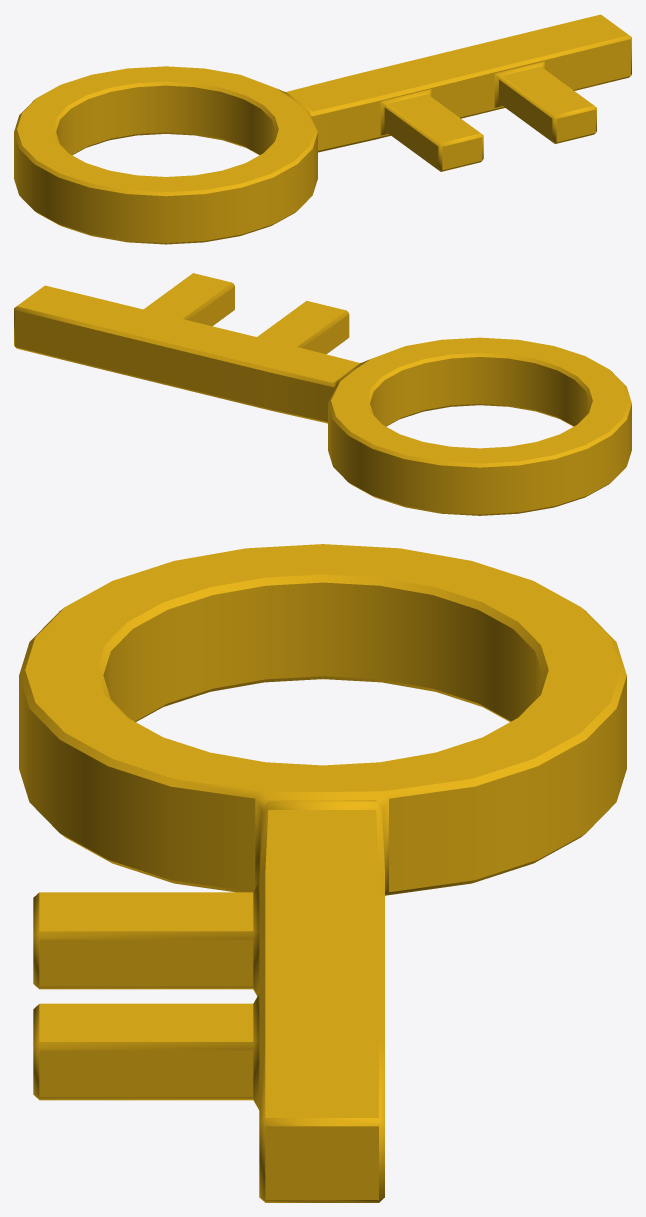
The model's file is Shadow_Key.fbx.
3 views of the same model, one above another, from view 1: azimuth 30°, elevation 25°; view 2: azimuth 150°, elevation 25°; view 3: azimuth 270°, elevation 25° (orthographic). The views are drawn at different scales.
Visible parts, largest first — view 1: Circle; view 2: Circle; view 3: Circle.
Part boxes in pixels (<box>): Circle: <box>14,14,631,244</box>; Circle: <box>14,273,631,515</box>; Circle: <box>19,544,626,1202</box>.
Bounding box in the file's own units: 517 × 44.32 × 233.
